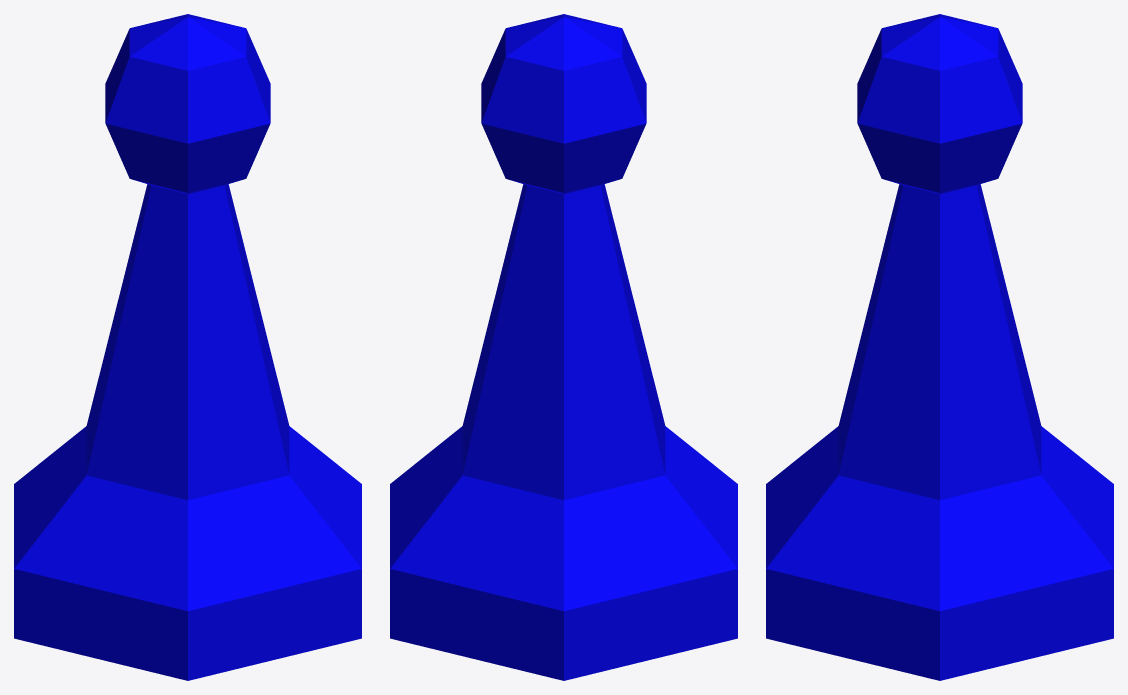
File: Boardgame_Player_Piece_General_Blue_01.fbx
The picture shows the model from 3 angles, left to right: view 1: azimuth 30°, elevation 25°; view 2: azimuth 150°, elevation 25°; view 3: azimuth 270°, elevation 25°; orthographic projection.
Parts seen in each view (by area): view 1: Model; view 2: Model; view 3: Model.
Part boxes in pixels (bbox=[...]): Model: bbox=[14, 14, 361, 680]; Model: bbox=[390, 14, 737, 680]; Model: bbox=[766, 14, 1113, 680].
Bounding box in the file's own units: 187 × 297 × 162.
